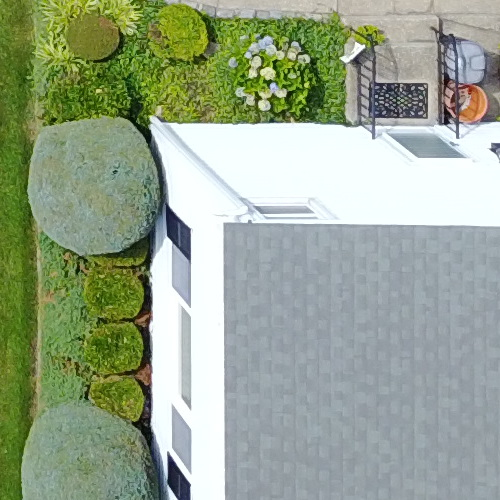trash bin: (437, 78, 493, 135), (441, 35, 494, 93)
